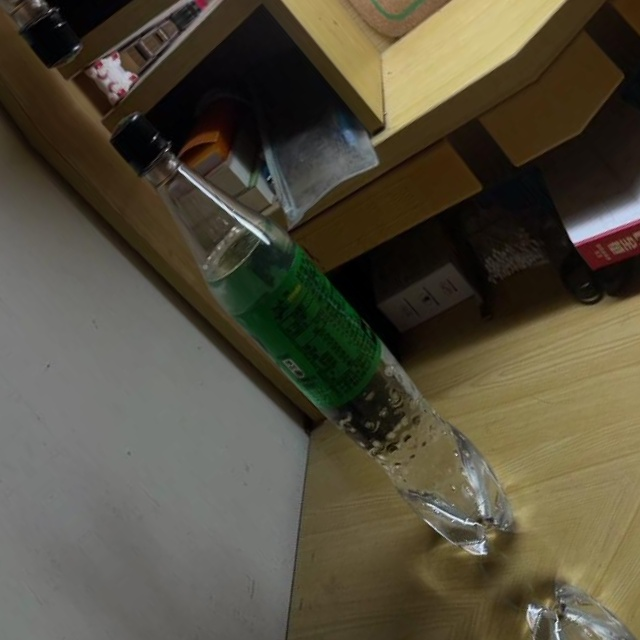Sprite: (90, 83, 536, 587)
